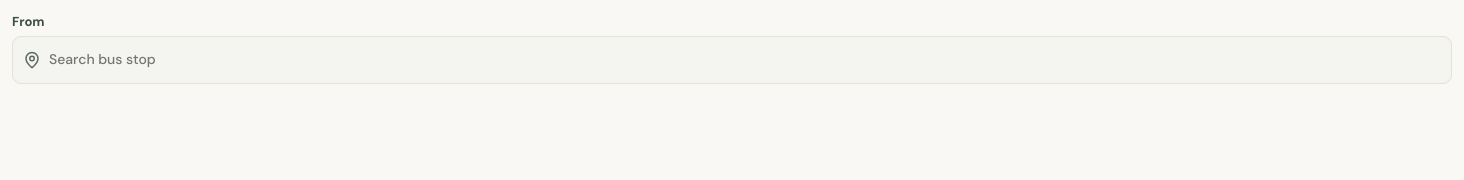
Test: actual user states › confirms a single suggestion with Enter and visibly clears confirmation when edited
Type "Alpha" into the dropdown at point(746, 60), box [41,36,1451,82]
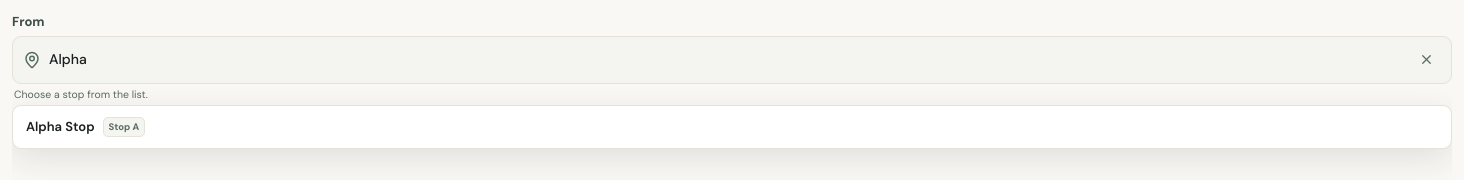
Result: the option "Alpha Stop Stop A" is shown at [17,110,1447,144]
Press Enter in the dropdown, box [41,36,1411,82]
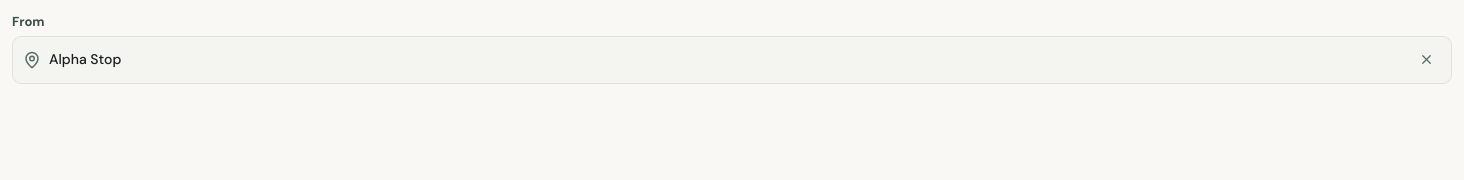
Replace the text in the dropdown with "Alpha S" at point(726, 60), box [41,36,1411,82]
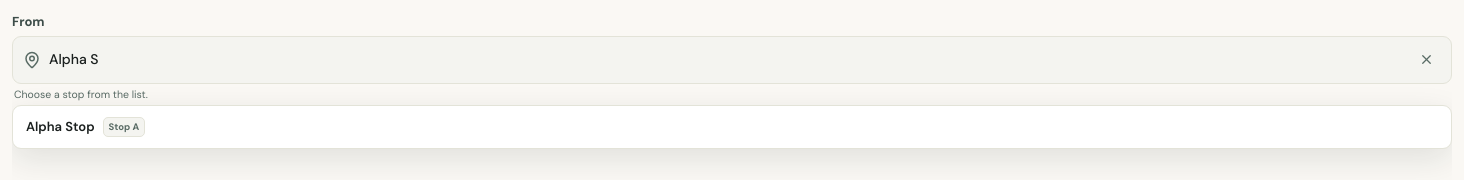
Expected: the text "Selected · Stop A" is not shown
Result: the text "Choose a stop from the list." is shown at [14,88,148,100]
